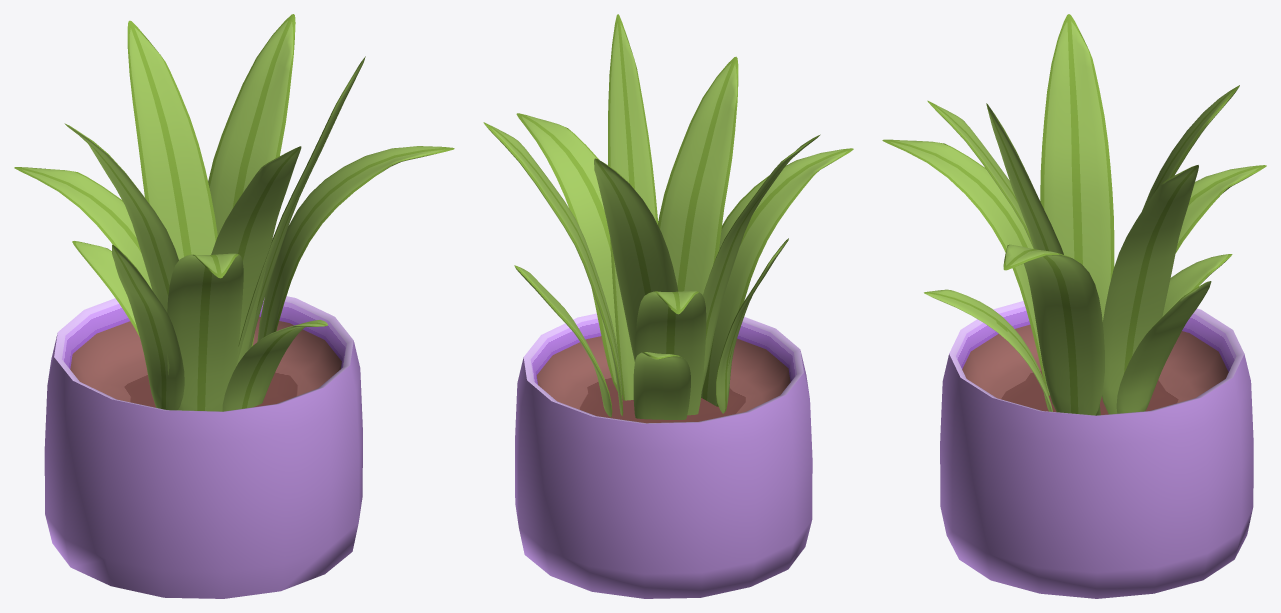
File: 3d_plant1 1.fbx
The picture shows the model from 3 angles, left to right: view 1: azimuth 30°, elevation 25°; view 2: azimuth 150°, elevation 25°; view 3: azimuth 270°, elevation 25°; orthographic projection. The views are drawn at different scales.
Parts seen in each view (by area): view 1: 3d_plant1; view 2: 3d_plant1; view 3: 3d_plant1.
Part boxes in pixels (bbox=[...]): 3d_plant1: bbox=[14, 14, 454, 598]; 3d_plant1: bbox=[483, 14, 853, 598]; 3d_plant1: bbox=[882, 14, 1266, 598].
Bounding box in the file's own units: 0.2527 × 0.3385 × 0.2411.
